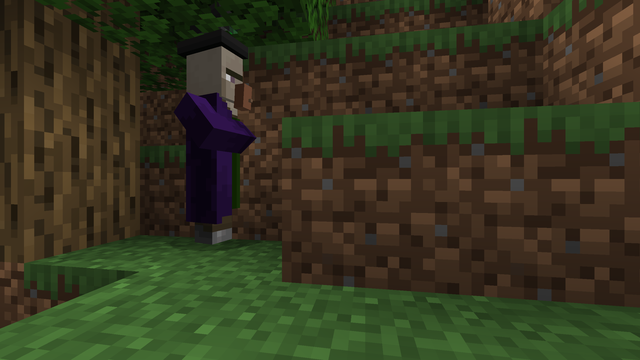sorcieres: (175, 36, 247, 247)
